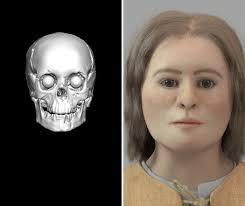Persons: (124, 10, 245, 170)
